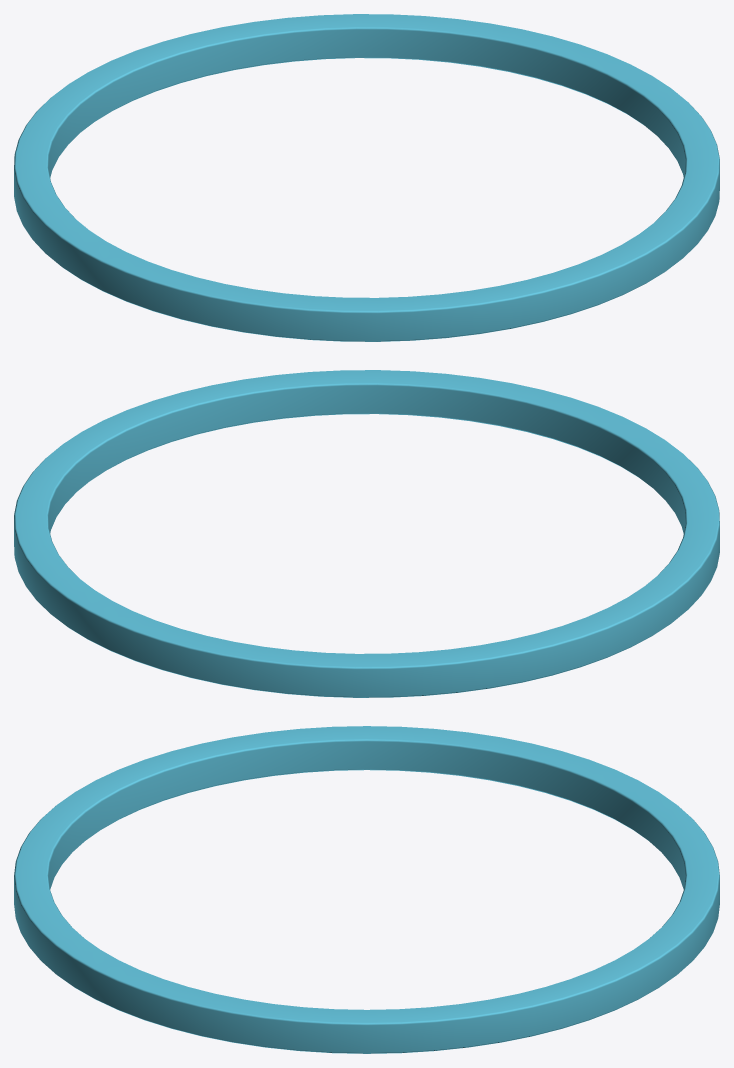
3 views of the same model, one above another, from view 1: azimuth 30°, elevation 25°; view 2: azimuth 150°, elevation 25°; view 3: azimuth 270°, elevation 25° (orthographic).
Visible parts, largest first — view 1: seal_body; view 2: seal_body; view 3: seal_body.
Boxes of the visible parts, left/top/right/bottom form: seal_body: left=14, top=14, right=719, bottom=341; seal_body: left=14, top=370, right=719, bottom=697; seal_body: left=14, top=726, right=719, bottom=1053.
Bounding box in the file's own units: 0.1302 × 0.00635 × 0.1302.
